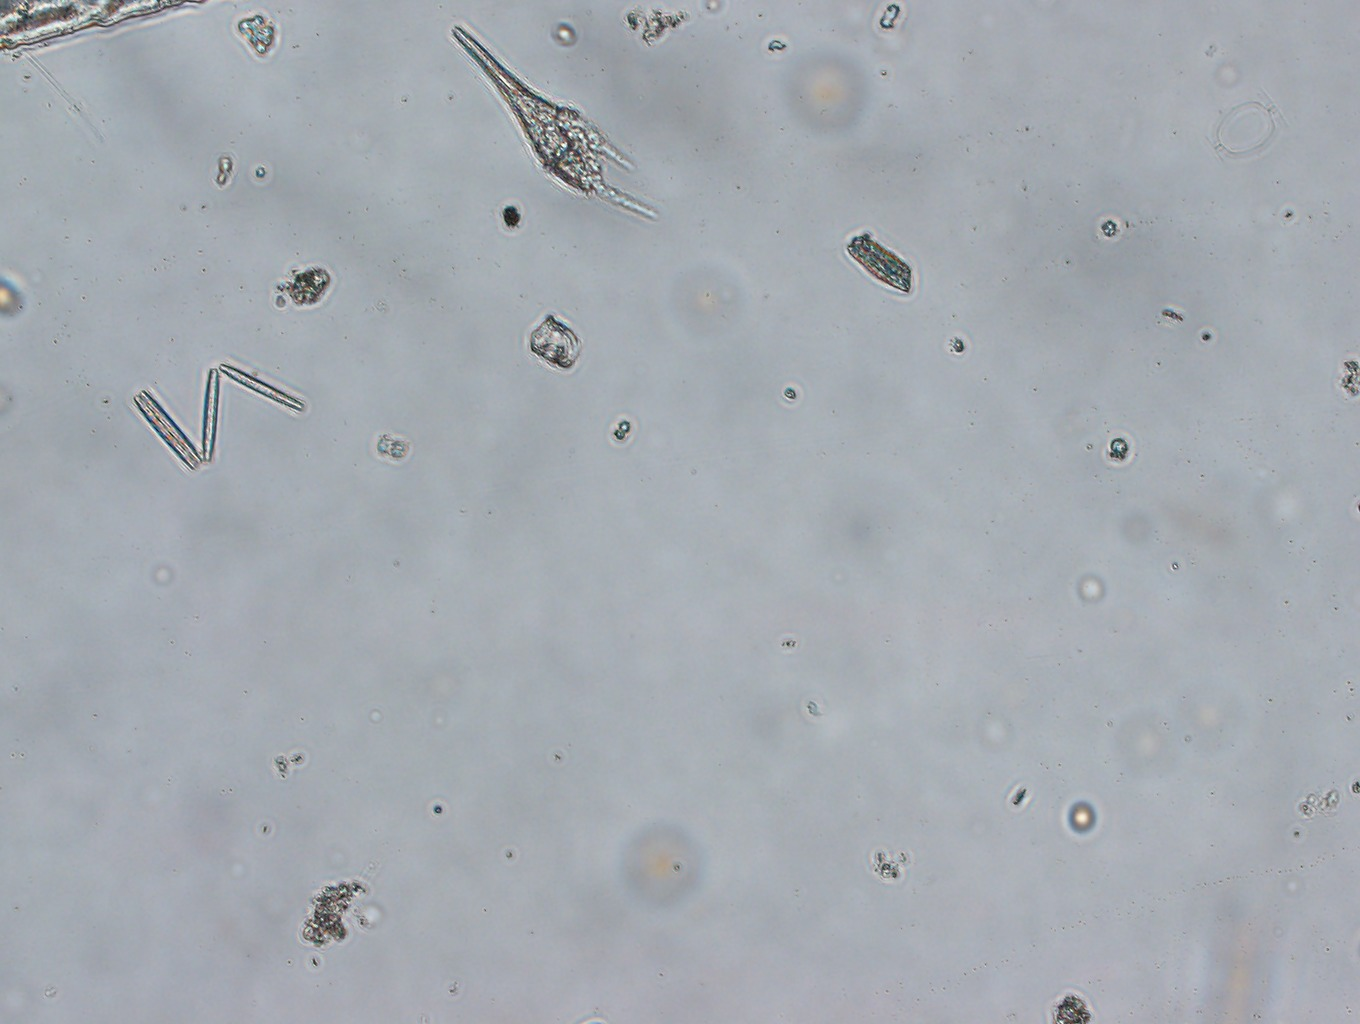ceratium furca: (445, 19, 663, 224), (125, 352, 306, 472)
